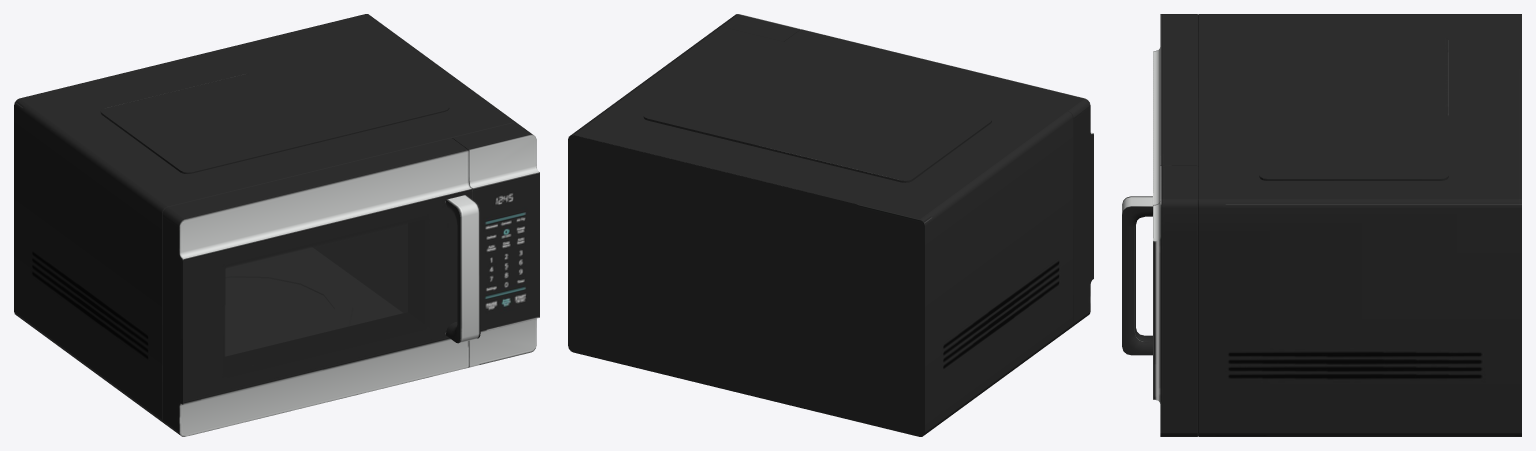
The model's file is microondas.glb.
3 views of the same model, side by side, from view 1: azimuth 30°, elevation 25°; view 2: azimuth 150°, elevation 25°; view 3: azimuth 270°, elevation 25° (orthographic). The views are drawn at different scales.
Visible parts, largest first — view 1: Cube.028, Cube.030, Cube.029; view 2: Cube.028, Cube.030; view 3: Cube.028, Cube.030, Cube.029.
Part boxes in pixels (box(x1,y1,x2,y2)): Cube.028: box(14, 14, 539, 422); Cube.030: box(162, 138, 472, 436); Cube.029: box(446, 195, 480, 343); Cube.028: box(568, 14, 1072, 436); Cube.030: box(784, 29, 1093, 326); Cube.028: box(1153, 14, 1521, 436); Cube.030: box(1153, 14, 1198, 205); Cube.029: box(1122, 196, 1152, 355).
Bounding box in the file's own units: 55 × 34.23 × 48.84.
1 material, 1 textured.
